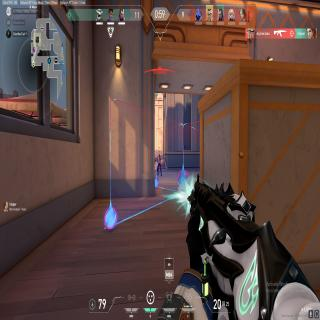ENEMY-BODY: (156, 153, 162, 178)
ENEMY-HEAD: (159, 154, 160, 158)
